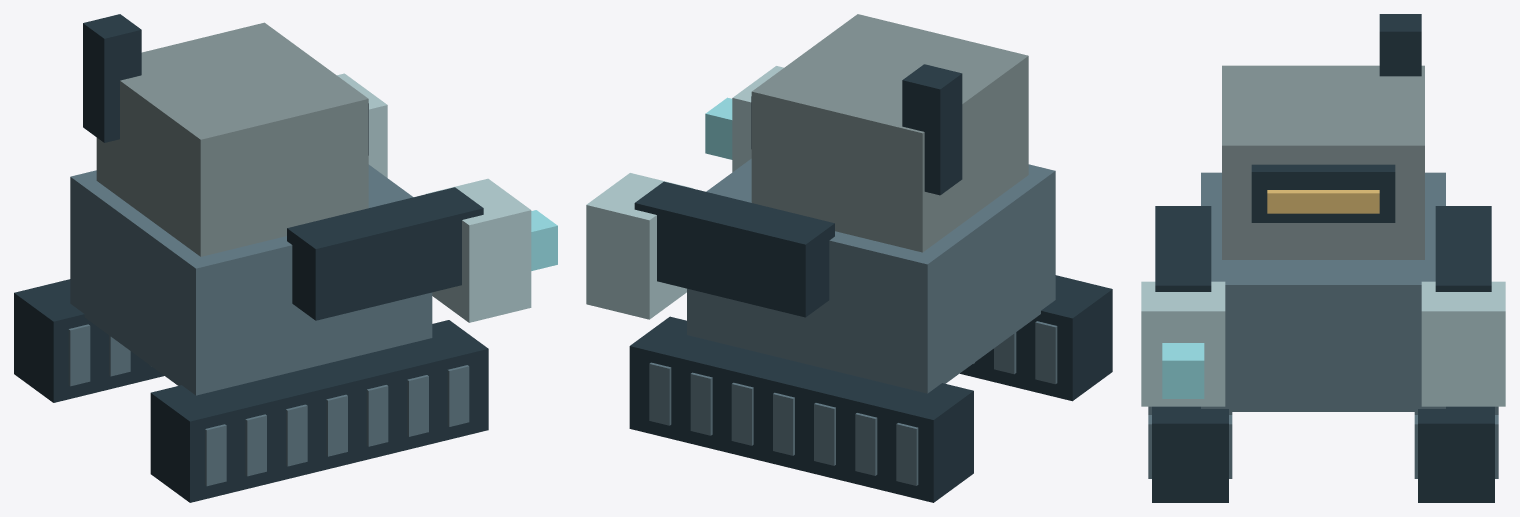
Rendered from lost-welder.glb.
3 views of the same model, side by side, from view 1: azimuth 30°, elevation 25°; view 2: azimuth 150°, elevation 25°; view 3: azimuth 270°, elevation 25° (orthographic). The views are drawn at different scales.
Visible parts, largest first — view 1: UpperHull, Chassis, Tracks, ToolArms, TreadRibs, ToolClamps, Exhaust, WeldingTorch; view 2: UpperHull, Chassis, Tracks, ToolArms, TreadRibs, ToolClamps, Exhaust, WeldingTorch; view 3: Chassis, UpperHull, ToolClamps, Tracks, ToolArms, OpticHousing, OpticLens, Exhaust, WeldingTorch, TreadRibs.
Boxes of the visible parts, box(x1,y1,x2,y2) form: UpperHull: box(96, 22, 368, 256); Chassis: box(70, 164, 432, 395); Tracks: box(14, 279, 488, 502); ToolArms: box(287, 187, 483, 320); TreadRibs: box(68, 324, 469, 486); ToolClamps: box(337, 73, 531, 322); Exhaust: box(83, 14, 141, 142); WeldingTorch: box(531, 210, 557, 270); UpperHull: box(751, 14, 1028, 252); Chassis: box(687, 158, 1055, 393); Tracks: box(629, 275, 1112, 502); ToolArms: box(634, 181, 834, 317); TreadRibs: box(649, 321, 1057, 485); ToolClamps: box(586, 66, 783, 319); Exhaust: box(902, 64, 962, 195); WeldingTorch: box(705, 97, 732, 159); Chassis: box(1201, 172, 1445, 411); UpperHull: box(1222, 65, 1424, 259); ToolClamps: box(1141, 281, 1505, 406); Tracks: box(1152, 406, 1494, 502); ToolArms: box(1155, 206, 1491, 291); OpticHousing: box(1251, 164, 1395, 222); OpticLens: box(1267, 190, 1379, 213); Exhaust: box(1379, 14, 1421, 76); WeldingTorch: box(1162, 343, 1204, 398); TreadRibs: box(1148, 406, 1498, 478).
Size of the model in its own units: 6 by 5.7 by 5.2.
